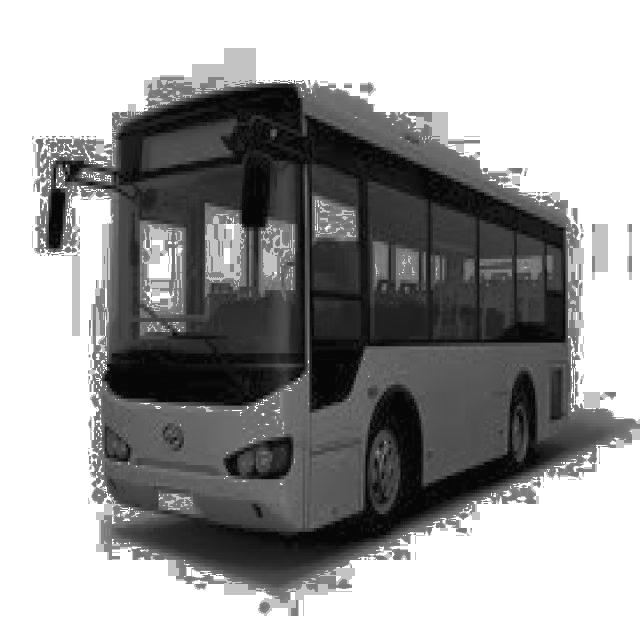Bus: (43, 63, 586, 545)
